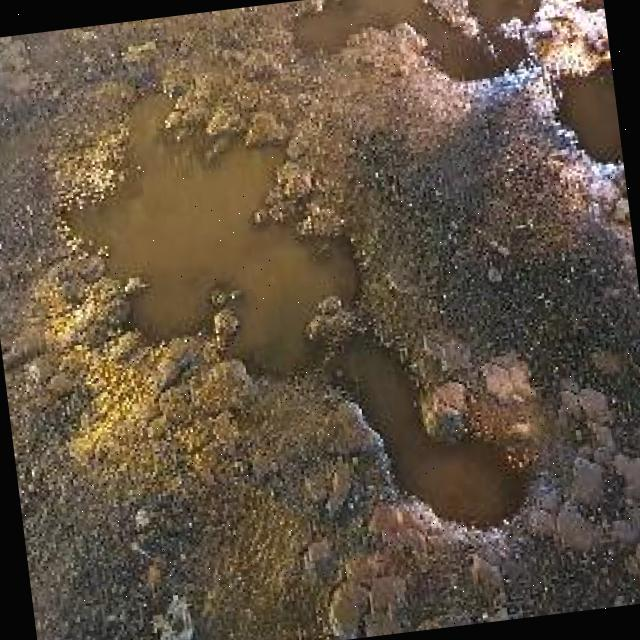stagnation: (36, 46, 597, 583)
